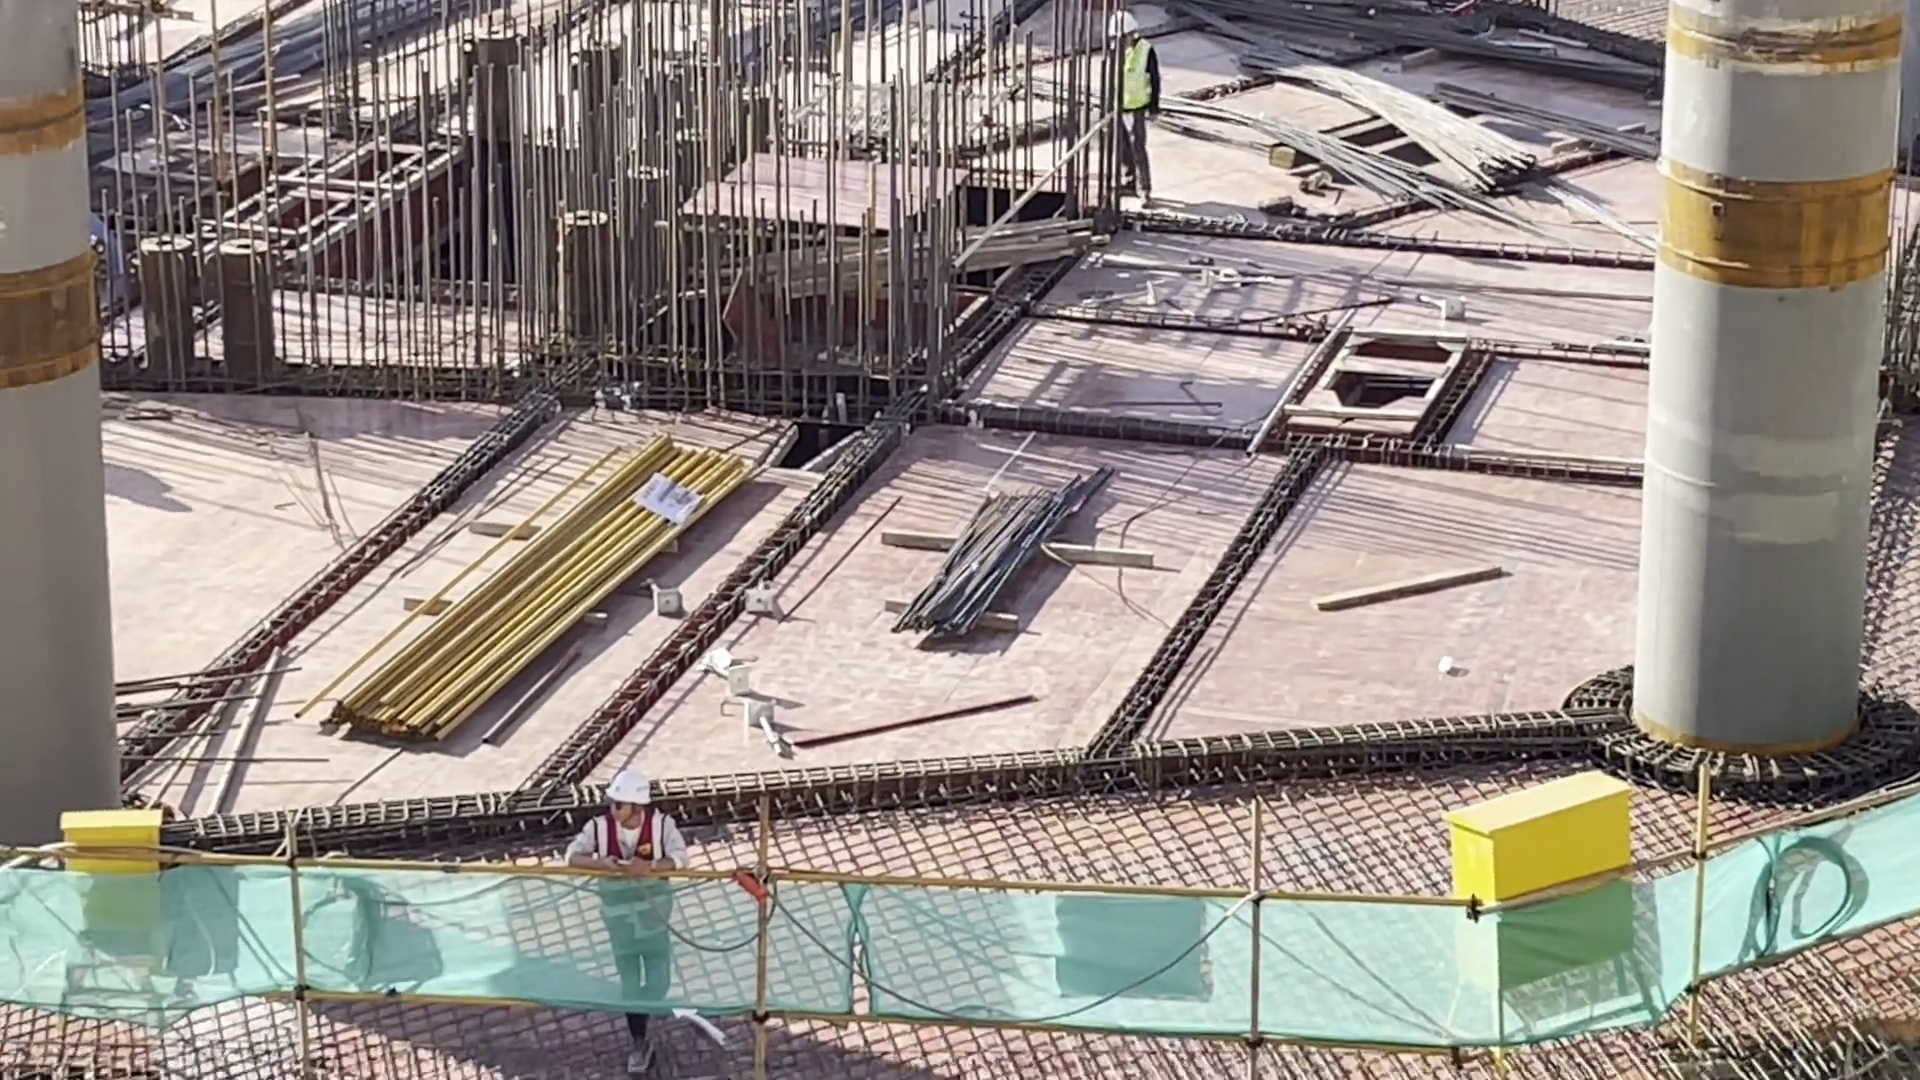helmet: (602, 767, 650, 808), (1102, 9, 1137, 34)
person: (556, 757, 715, 1080), (1107, 13, 1169, 198)
vest: (586, 818, 672, 926), (1119, 38, 1150, 118)
